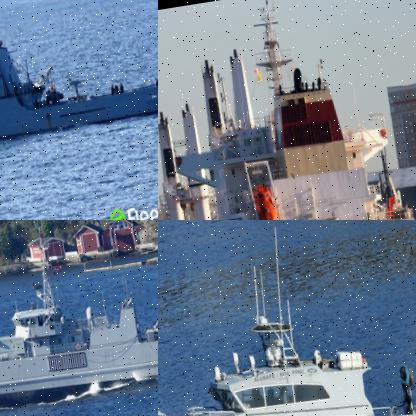Merchant Ship: (158, 0, 415, 219)
Military Ship: (0, 220, 157, 415), (0, 0, 157, 166)
Patrol Boat: (158, 220, 415, 415)
